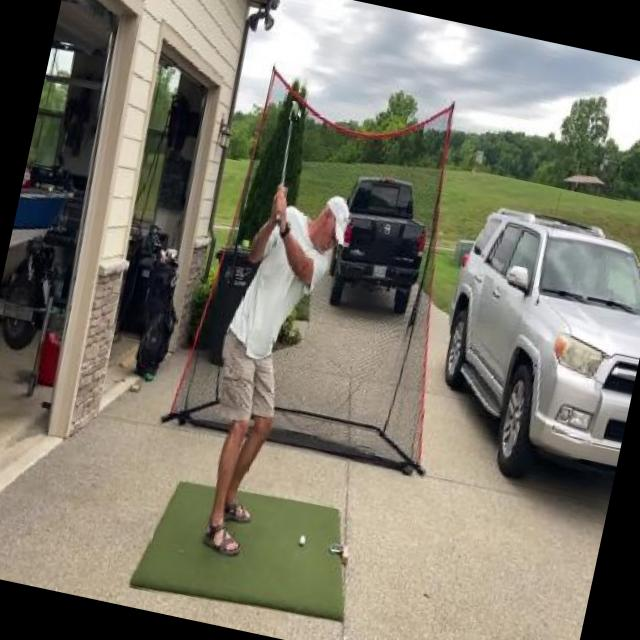club head: (288, 101, 302, 123)
